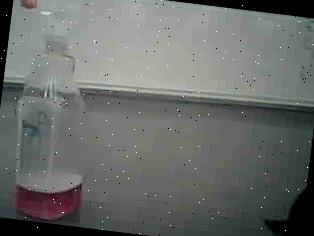hazard: (0, 0, 119, 226)
